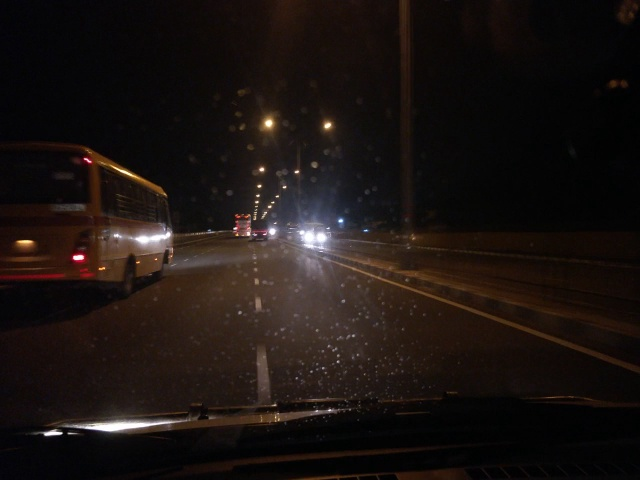bus: (2, 136, 180, 305), (250, 218, 270, 241)
car: (288, 218, 334, 251)
truck: (232, 213, 251, 237)
